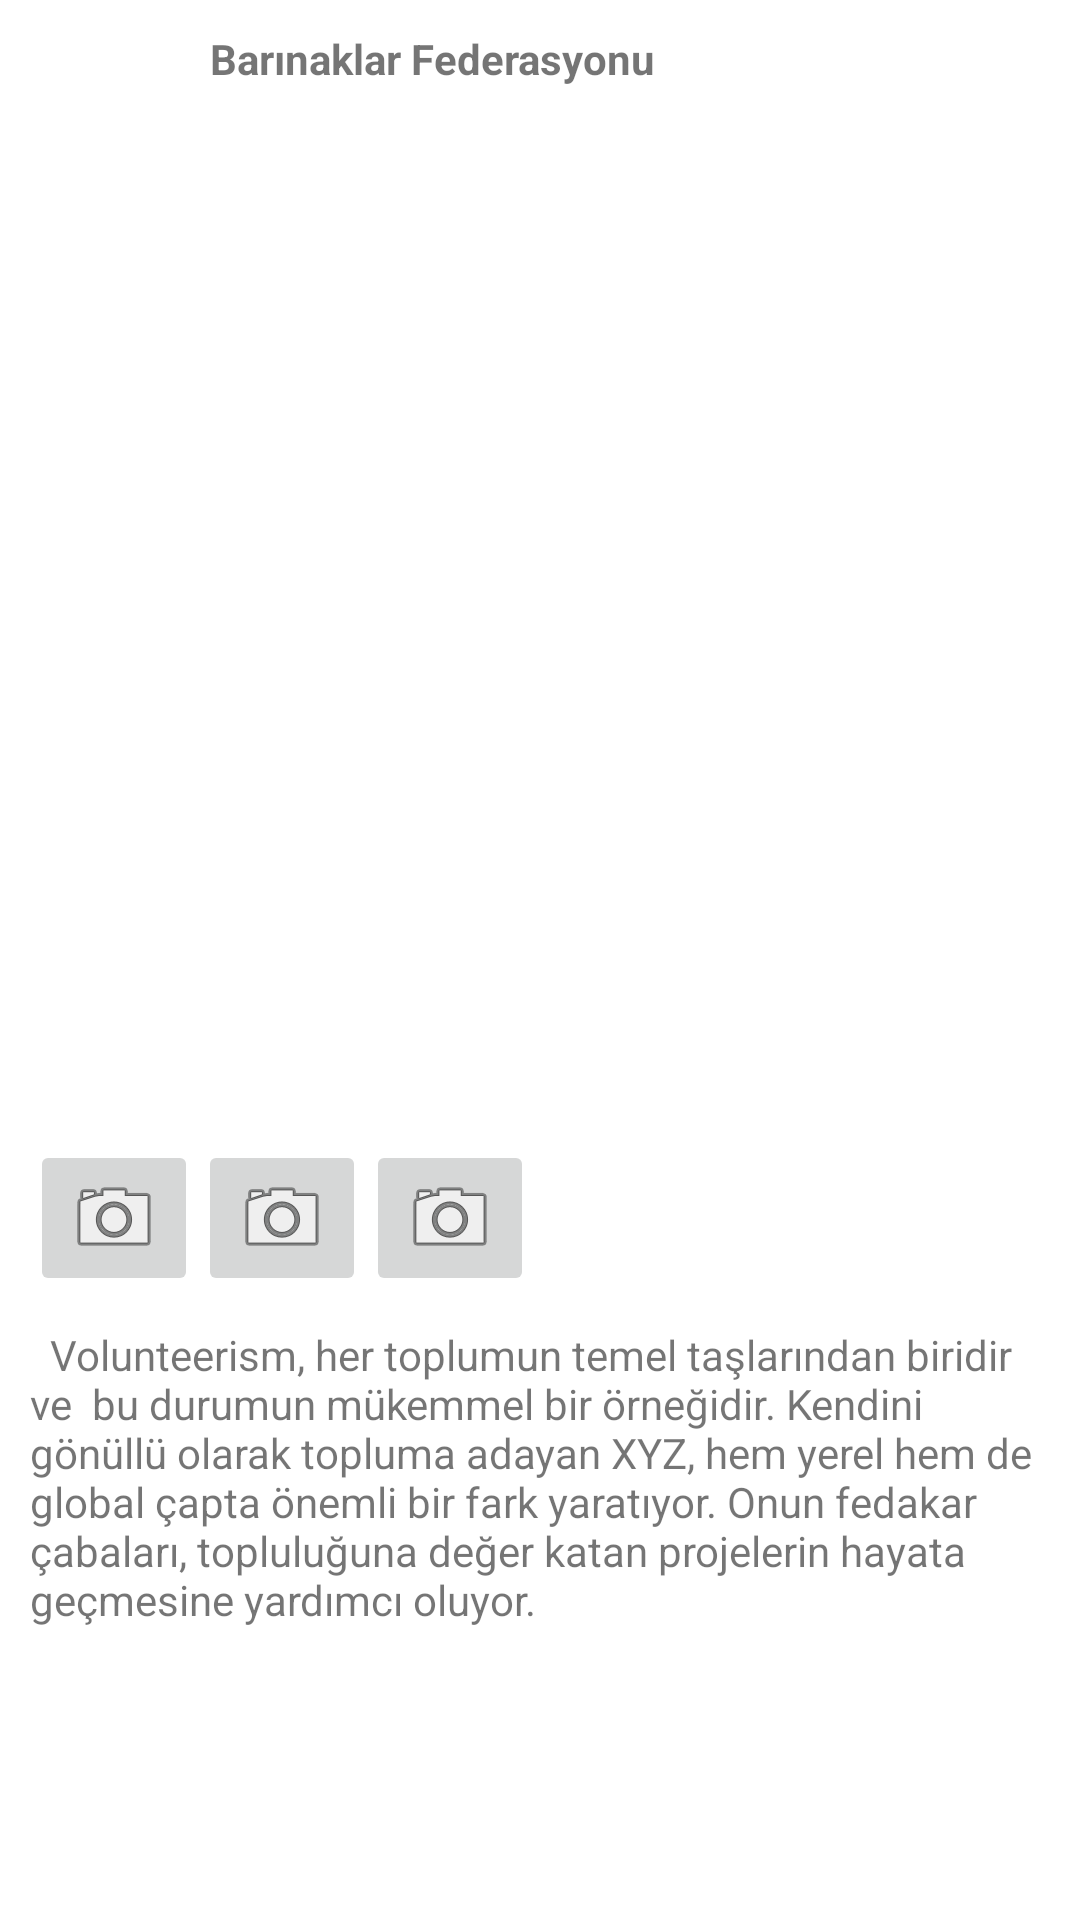

Point at icon controls on the screen. Image size 1080*1920, points as (x=x, y=y).
camera: (x=114, y=1218), (x=282, y=1218), (x=450, y=1218)
